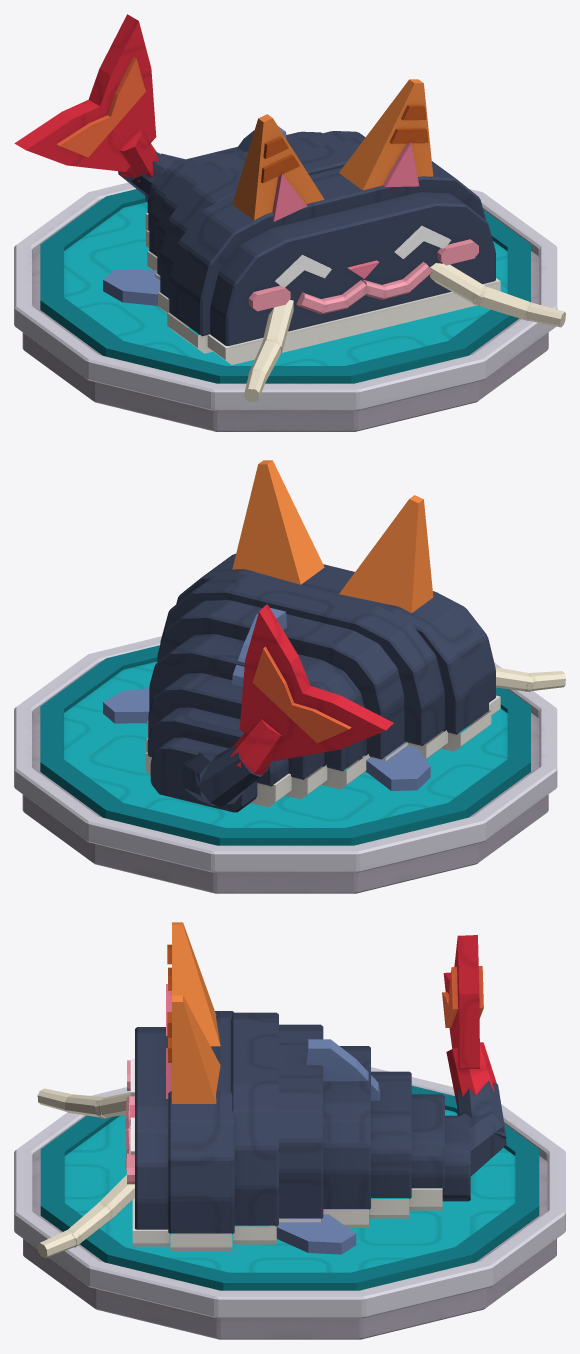
Rendered from CatCatfish.fbx.
3 renders of one model, top to bottom at view 1: azimuth 30°, elevation 25°; view 2: azimuth 150°, elevation 25°; view 3: azimuth 270°, elevation 25°, orthographic.
Parts seen in each view (by area): view 1: Art_CatCatfish_Head, Art_CatCatfish_Stand, Art_CatCatfish_Haze, Art_CatCatfish_Tail, Art_CatCatfish_EarL, Art_CatCatfish_EarR, Art_CatCatfish_Body, Art_CatCatfish_BarbelL, Art_CatCatfish_BarbelR, Art_CatCatfish_FinR; view 2: Art_CatCatfish_Haze, Art_CatCatfish_Stand, Art_CatCatfish_Body, Art_CatCatfish_Head, Art_CatCatfish_Tail, Art_CatCatfish_EarL, Art_CatCatfish_EarR, Art_CatCatfish_FinR, Art_CatCatfish_FinL, Art_CatCatfish_BarbelR; view 3: Art_CatCatfish_Stand, Art_CatCatfish_Haze, Art_CatCatfish_Head, Art_CatCatfish_Body, Art_CatCatfish_Tail, Art_CatCatfish_EarL, Art_CatCatfish_EarR, Art_CatCatfish_FinL, Art_CatCatfish_BarbelL, Art_CatCatfish_BarbelR.
Boxes of the visible parts, bbox=[...] form: Art_CatCatfish_Head: bbox=[158, 137, 500, 364]; Art_CatCatfish_Stand: bbox=[14, 182, 557, 431]; Art_CatCatfish_Haze: bbox=[40, 189, 530, 383]; Art_CatCatfish_Tail: bbox=[14, 14, 184, 201]; Art_CatCatfish_EarL: bbox=[339, 79, 433, 190]; Art_CatCatfish_EarR: bbox=[232, 114, 324, 221]; Art_CatCatfish_Body: bbox=[145, 126, 365, 280]; Art_CatCatfish_BarbelL: bbox=[430, 263, 565, 327]; Art_CatCatfish_BarbelR: bbox=[244, 300, 293, 401]; Art_CatCatfish_FinR: bbox=[103, 270, 169, 305]; Art_CatCatfish_Haze: bbox=[40, 645, 530, 845]; Art_CatCatfish_Stand: bbox=[14, 636, 557, 893]; Art_CatCatfish_Body: bbox=[145, 600, 407, 812]; Art_CatCatfish_Head: bbox=[160, 553, 500, 758]; Art_CatCatfish_Tail: bbox=[182, 604, 393, 807]; Art_CatCatfish_EarL: bbox=[232, 460, 324, 584]; Art_CatCatfish_EarR: bbox=[339, 495, 433, 613]; Art_CatCatfish_FinR: bbox=[359, 744, 430, 790]; Art_CatCatfish_FinL: bbox=[103, 688, 149, 723]; Art_CatCatfish_BarbelR: bbox=[495, 667, 565, 691]; Art_CatCatfish_Stand: bbox=[14, 1067, 565, 1339]; Art_CatCatfish_Haze: bbox=[40, 1085, 539, 1290]; Art_CatCatfish_Head: bbox=[125, 1011, 278, 1250]; Art_CatCatfish_Body: bbox=[270, 1024, 470, 1227]; Art_CatCatfish_Tail: bbox=[442, 935, 506, 1175]; Art_CatCatfish_EarL: bbox=[166, 995, 220, 1103]; Art_CatCatfish_EarR: bbox=[166, 922, 220, 1046]; Art_CatCatfish_FinL: bbox=[275, 1214, 356, 1254]; Art_CatCatfish_BarbelL: bbox=[37, 1175, 134, 1258]; Art_CatCatfish_BarbelR: bbox=[37, 1088, 130, 1118].
Bounding box in the file's own units: 2.99 × 1.6 × 2.99.
